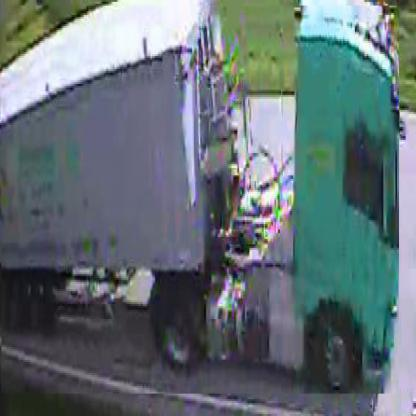container: (2, 7, 401, 397)
